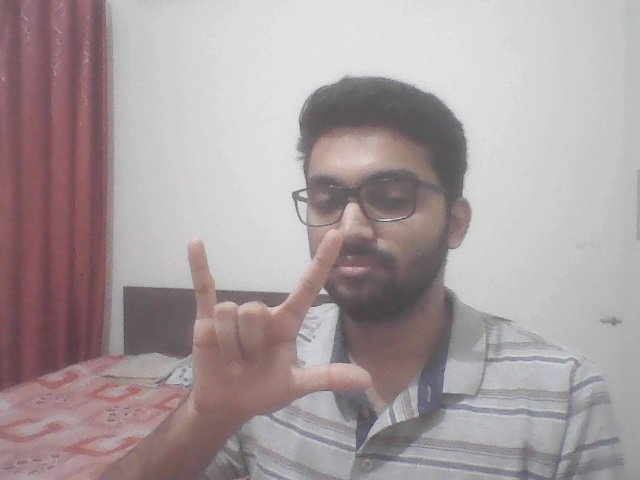iloveyou: (128, 222, 398, 447)
